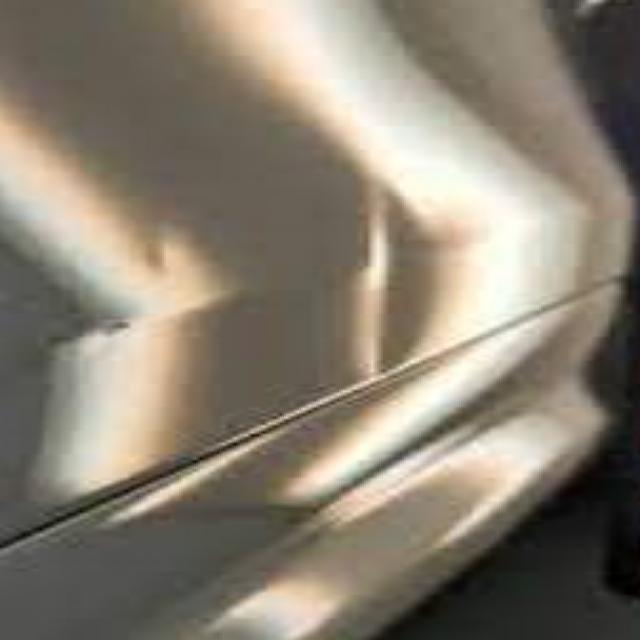dents: (158, 174, 532, 377)
